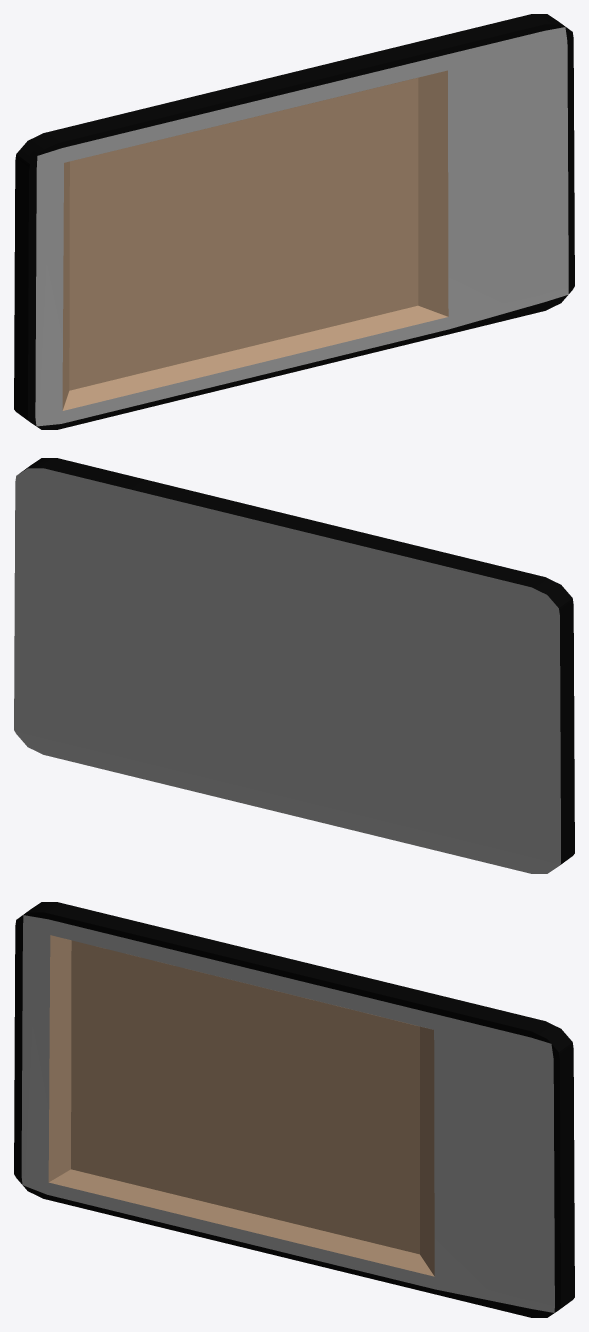
Rendered from Corkboard.fbx.
The picture shows the model from 3 angles, top to bottom: view 1: azimuth 30°, elevation 25°; view 2: azimuth 150°, elevation 25°; view 3: azimuth 330°, elevation 25°; orthographic projection.
Visible parts, largest first — view 1: Cork_Board; view 2: Cork_Board; view 3: Cork_Board.
Part boxes in pixels (x1,y1,x2,y2): Cork_Board: (14, 14, 574, 429); Cork_Board: (14, 458, 574, 873); Cork_Board: (14, 902, 574, 1317).
Bounding box in the file's own units: 1.88 × 0.9384 × 0.0827.
